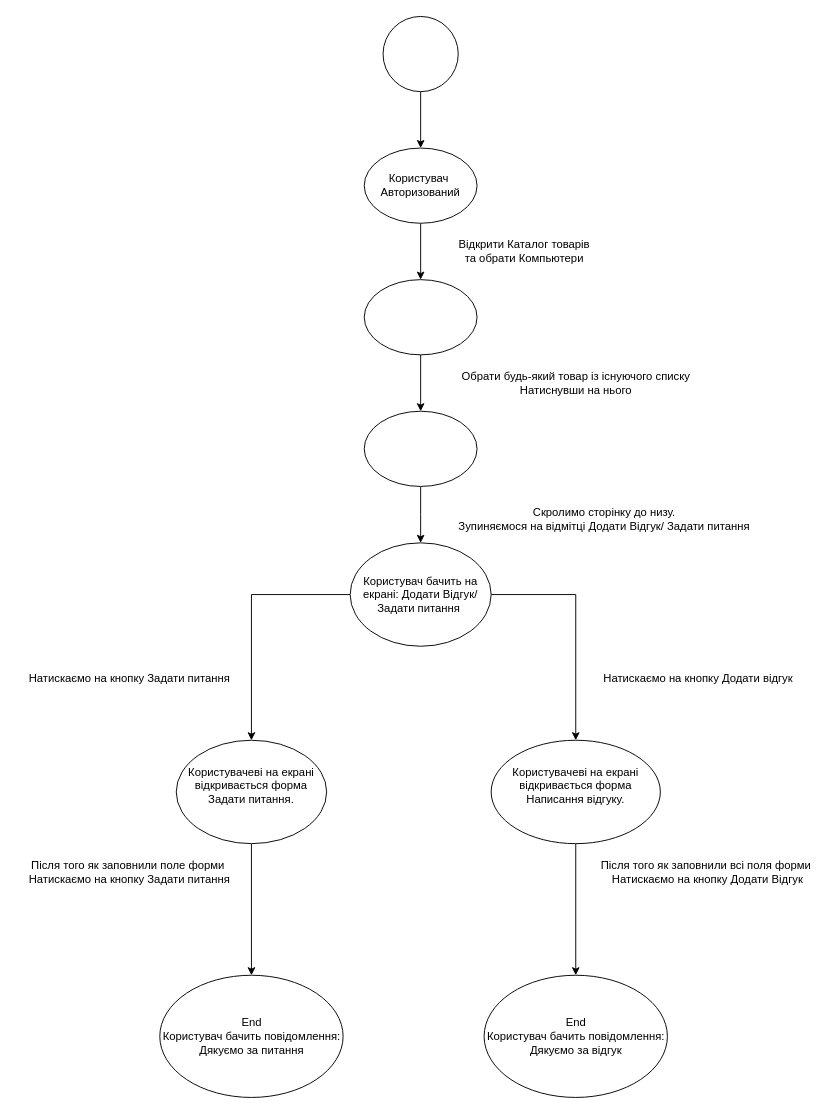
This 840x1114 diagram has some shape labels left out. Each missing label, with the centre of its shape:
"Start" goes at point (420, 54).
"Відкривається сторінка з обраним товаром" goes at point (420, 448).
"Користувач бачить перед собою список товарів" goes at point (420, 317).
